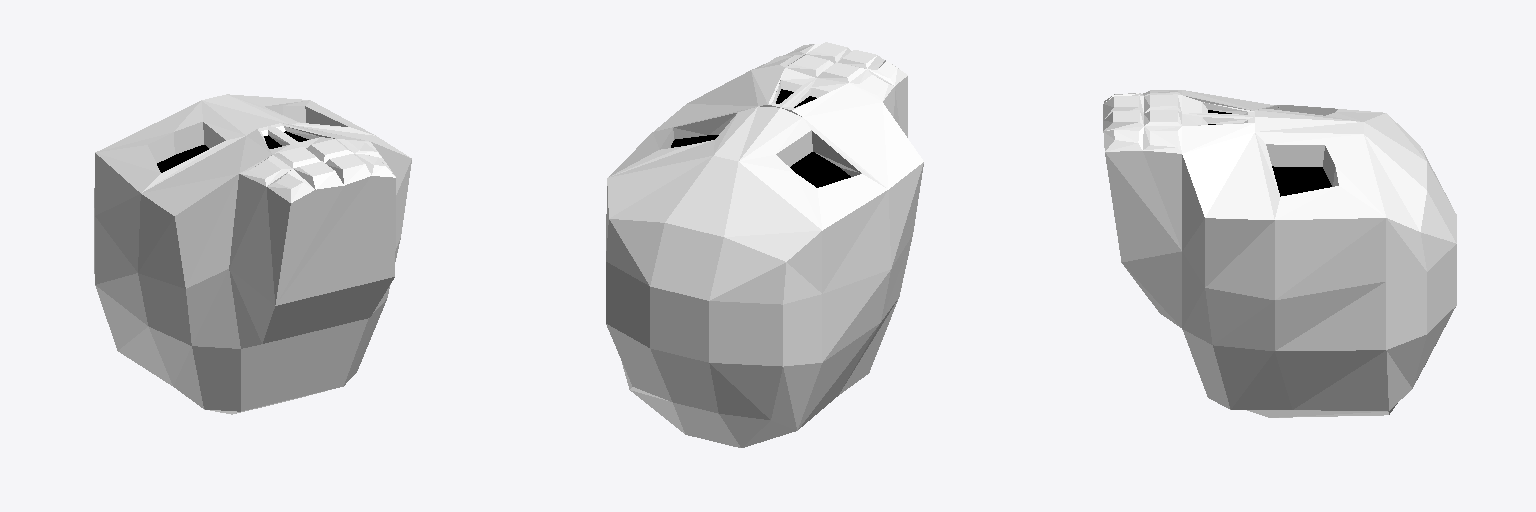
The model's file is skull.obj.
3 views of the same model, side by side, from view 1: azimuth 30°, elevation 25°; view 2: azimuth 150°, elevation 25°; view 3: azimuth 270°, elevation 25° (orthographic).
Parts seen in each view (by area): view 1: Skull01_Cube.011; view 2: Skull01_Cube.011; view 3: Skull01_Cube.011.
Boxes of the visible parts, <box> form: Skull01_Cube.011: <box>94,94,411,414</box>; Skull01_Cube.011: <box>606,42,923,447</box>; Skull01_Cube.011: <box>1103,90,1456,417</box>.
Bounding box in the file's own units: 1.23 × 1.44 × 1.55.